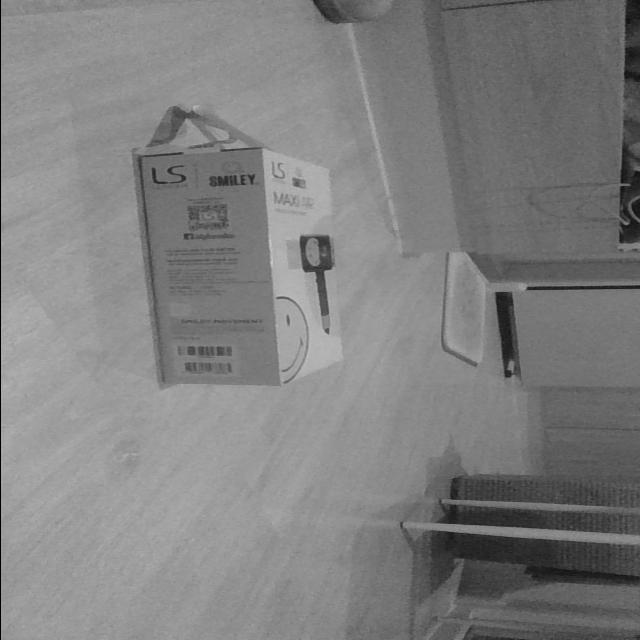Dryer: (108, 80, 384, 442)
